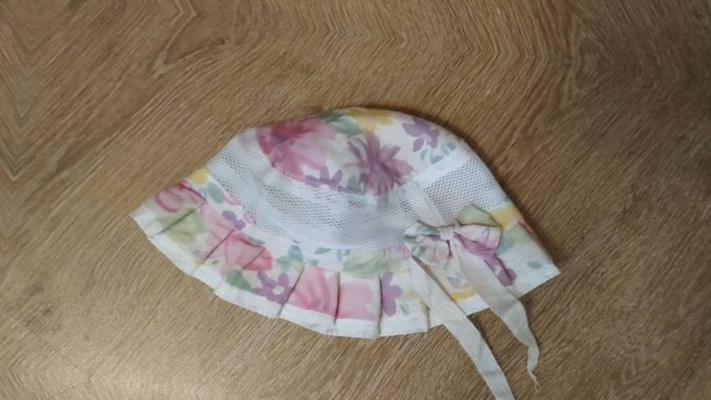Hat: (96, 51, 617, 400), (144, 0, 666, 23)
